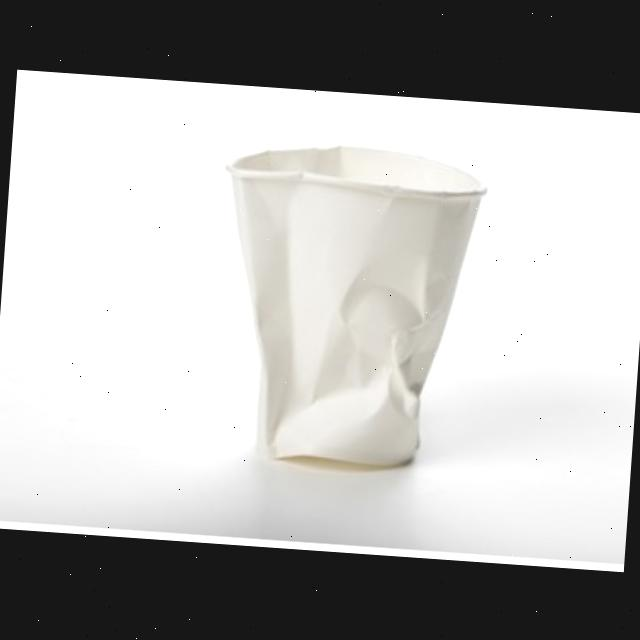trash: (200, 132, 490, 475)
